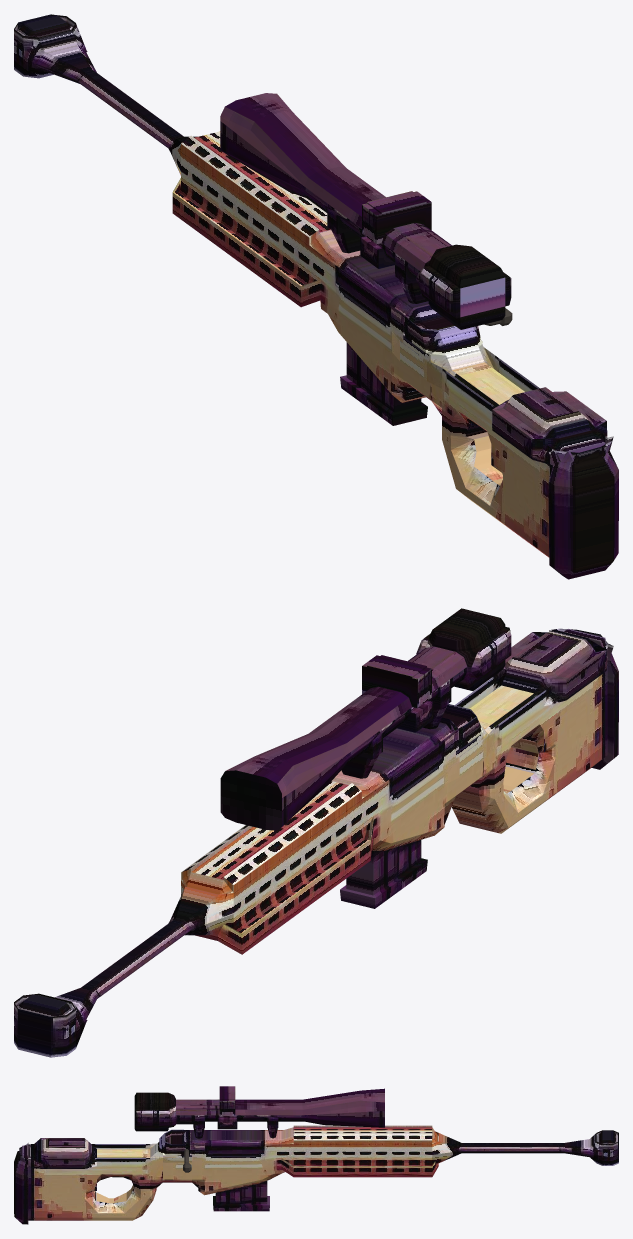
File: Sniper.glb
3 views of the same model, one above another, from view 1: azimuth 30°, elevation 25°; view 2: azimuth 150°, elevation 25°; view 3: azimuth 270°, elevation 25° (orthographic). The views are drawn at different scales.
Parts seen in each view (by area): view 1: OIG3 (9), OIG3 (9).001, OIG3 (9).002; view 2: OIG3 (9), OIG3 (9).001, OIG3 (9).002; view 3: OIG3 (9), OIG3 (9).001, OIG3 (9).002.
Boxes of the visible parts, <box> form: OIG3 (9): <box>14,14,618,579</box>; OIG3 (9).001: <box>220,93,511,329</box>; OIG3 (9).002: <box>340,342,427,425</box>; OIG3 (9): <box>14,628,618,1057</box>; OIG3 (9).001: <box>220,608,511,830</box>; OIG3 (9).002: <box>340,840,427,908</box>; OIG3 (9): <box>14,1125,618,1224</box>; OIG3 (9).001: <box>134,1086,384,1138</box>; OIG3 (9).002: <box>213,1181,269,1211</box>.
Size of the model in its own units: 0.1107 by 0.2187 by 0.947.
2 materials, 1 textured.
